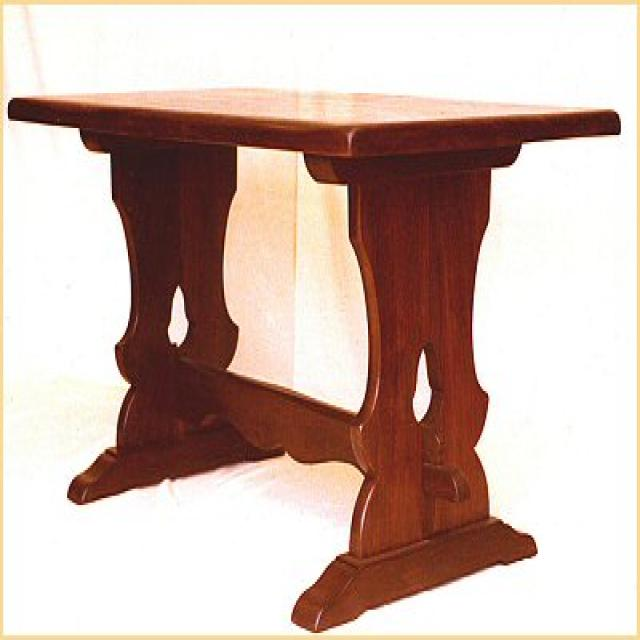table: (8, 85, 618, 634)
